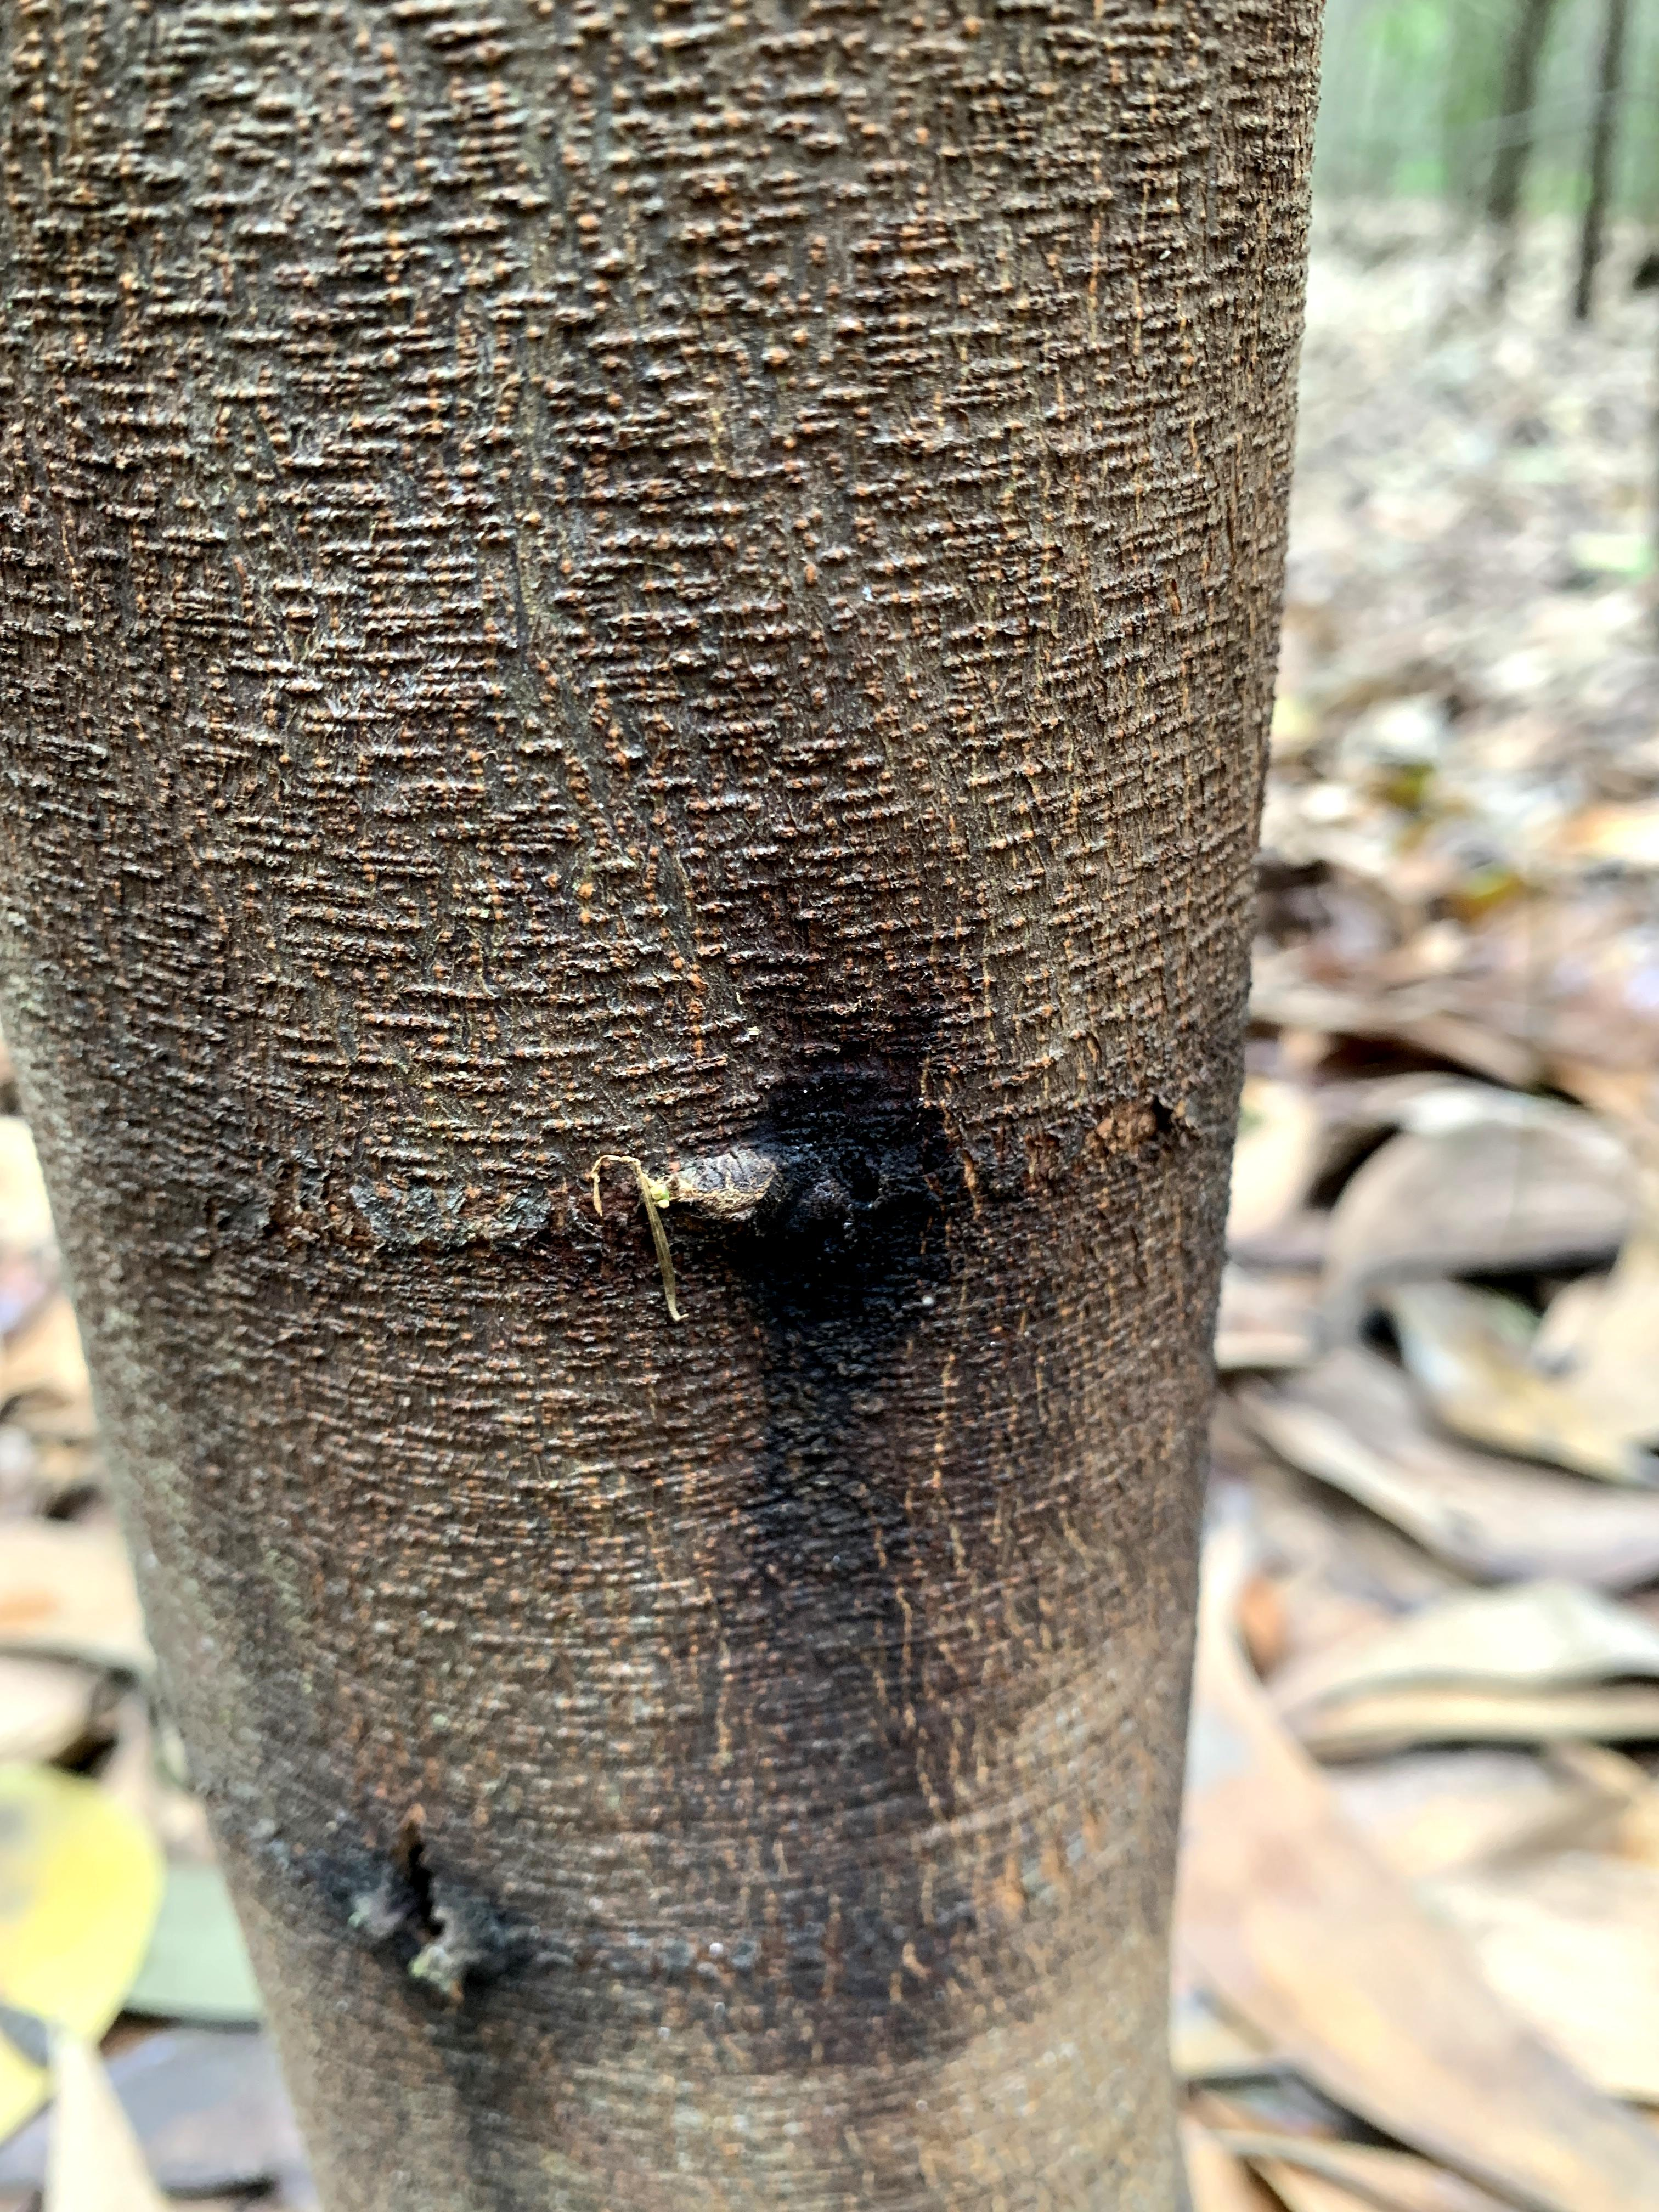Stem Borer: (617, 956, 1016, 1522)
